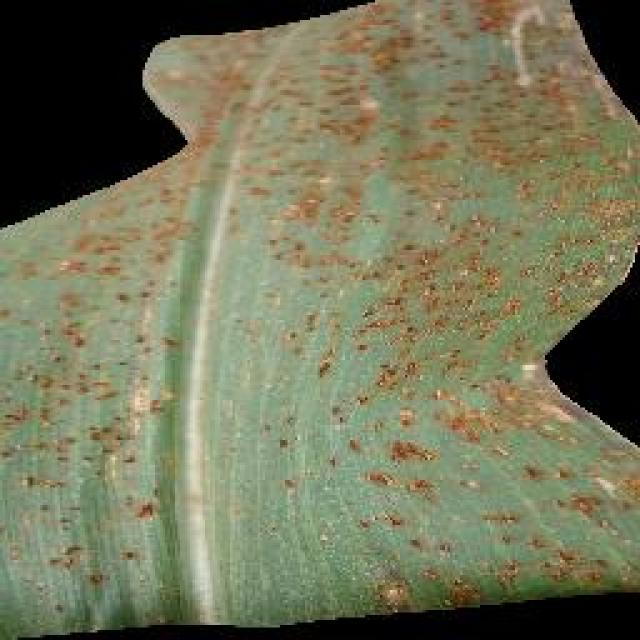Corn Common Rust: (178, 50, 530, 622)
